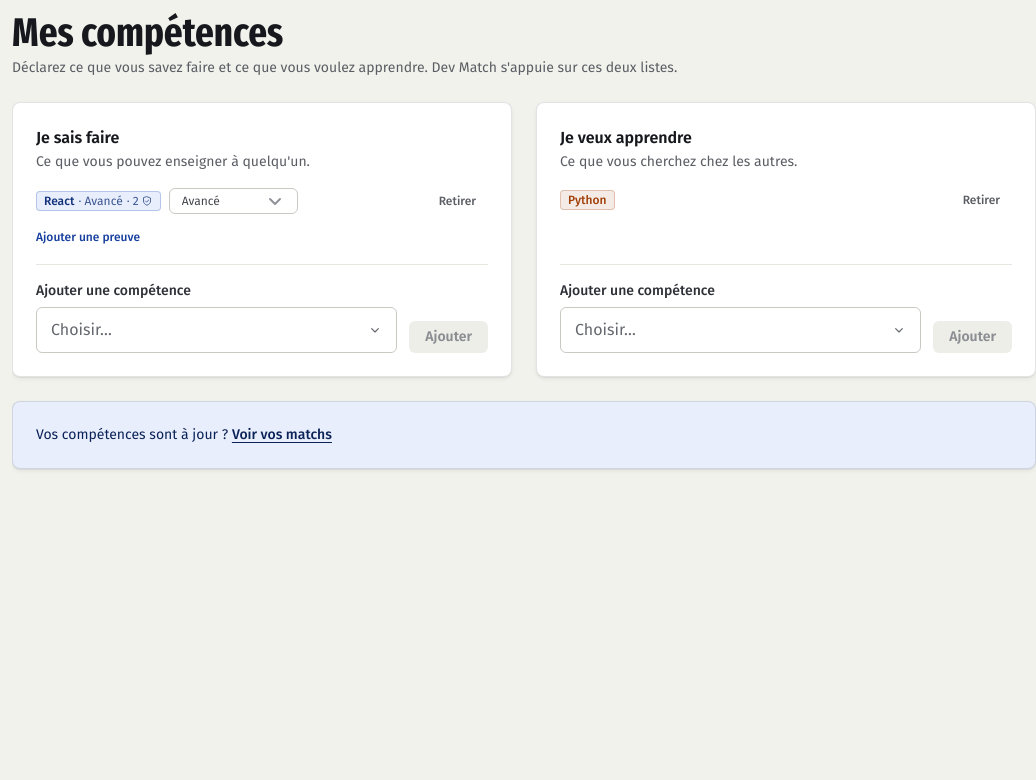
Test: page des compétences › signale un doublon renvoyé par le serveur
expect the heading "Je sais faire" is shown: met, box [36,128,119,147]
Click the dropdown labelled "Ajouter une compétence" below "React".
click(217, 330)  # box [36,307,397,353]
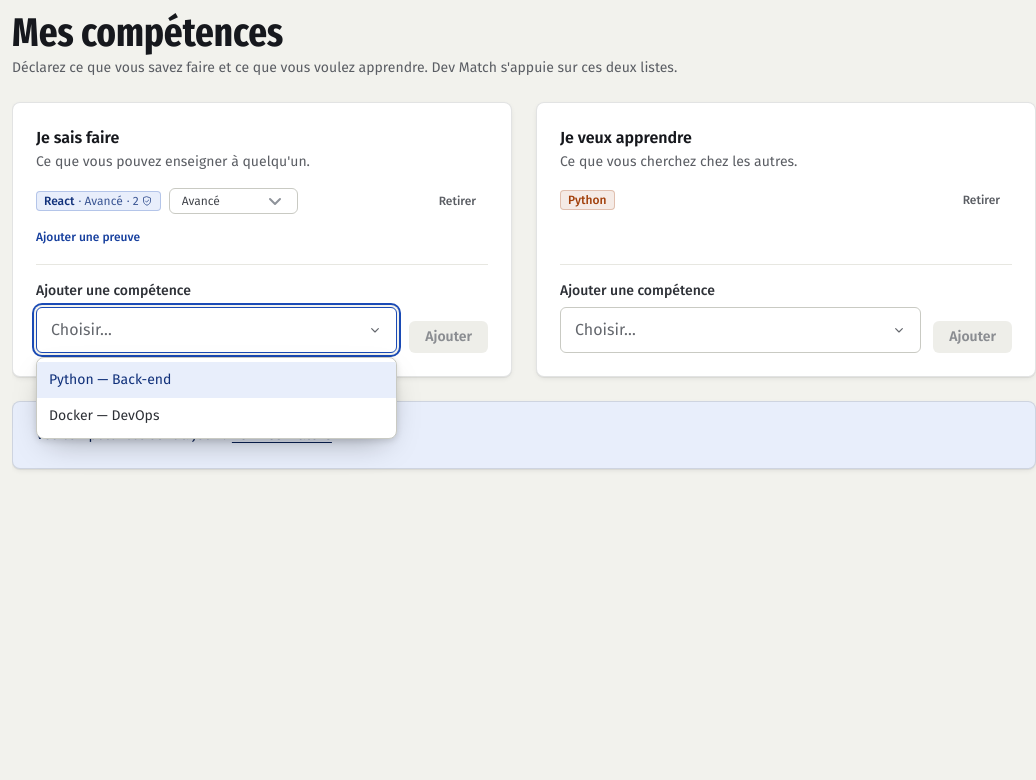
Click the option "Docker — DevOps".
click(104, 416)  # box [49,407,160,424]
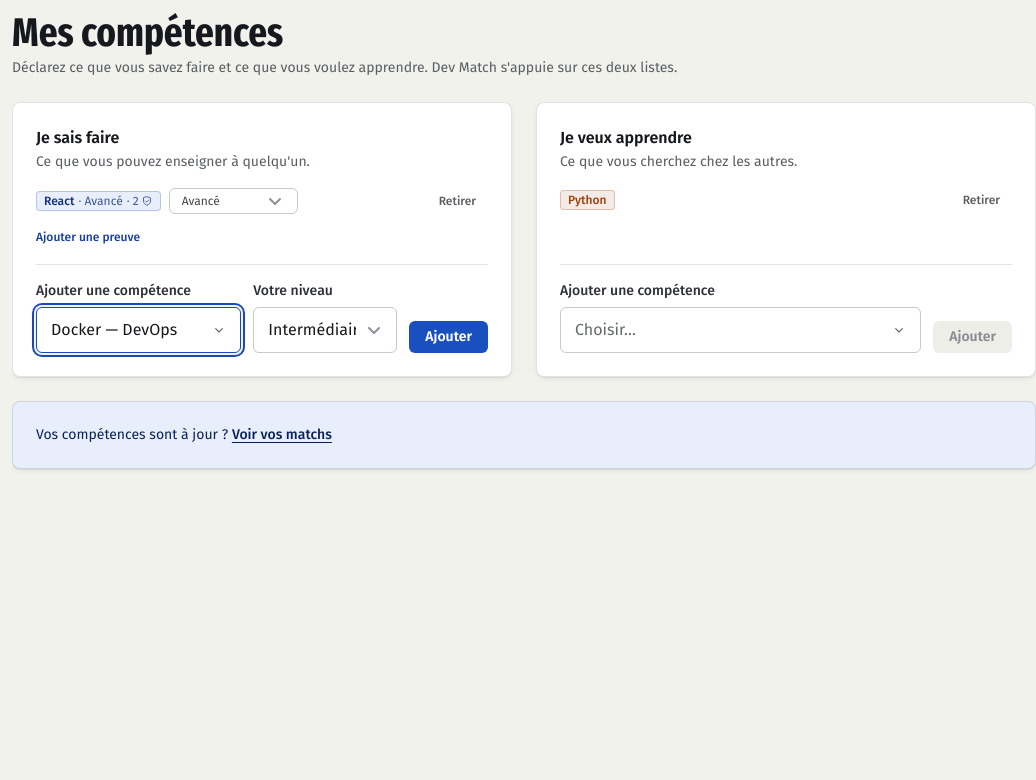
Click the button "Ajouter" below "Votre niveau".
click(449, 337)  # box [409,321,488,353]
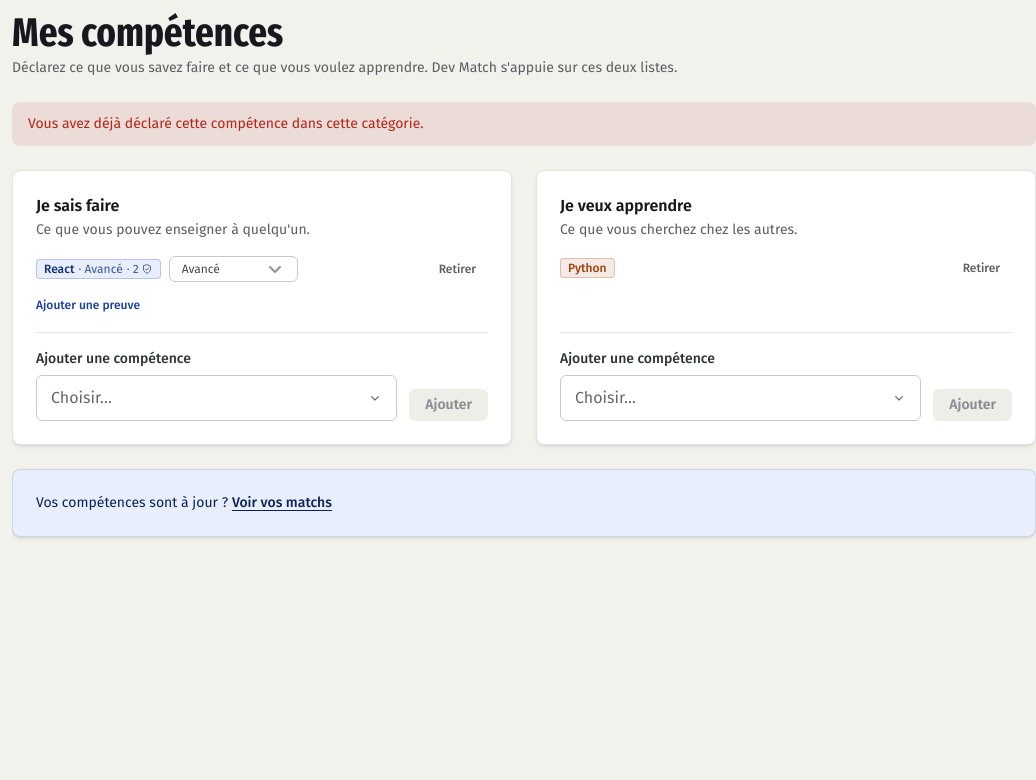
expect the message shows "déjà déclaré": met, box [28,115,424,132]
